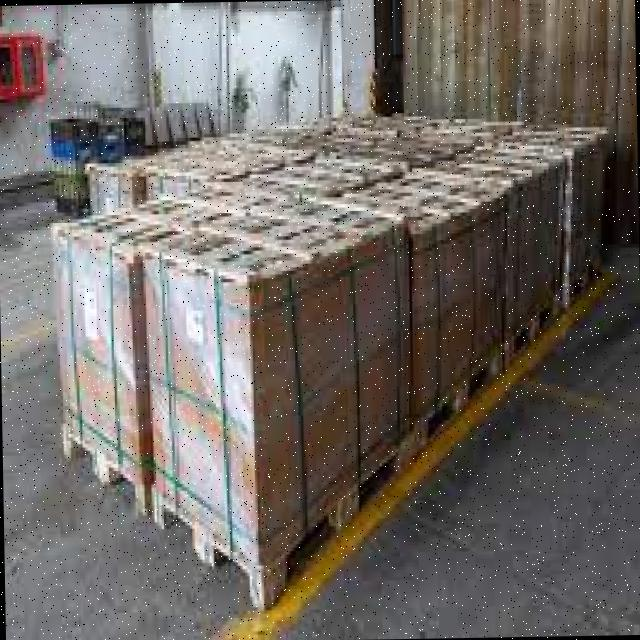Wooden-Pallets: (142, 419, 422, 619), (41, 421, 152, 524), (423, 334, 502, 458)
